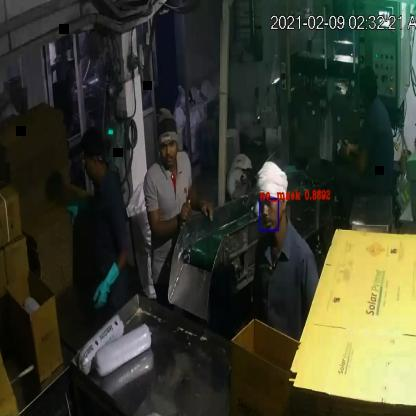glove: (90, 255, 124, 317), (54, 191, 101, 235)
no_glove: (144, 198, 194, 245), (338, 135, 372, 180), (181, 177, 214, 223)
